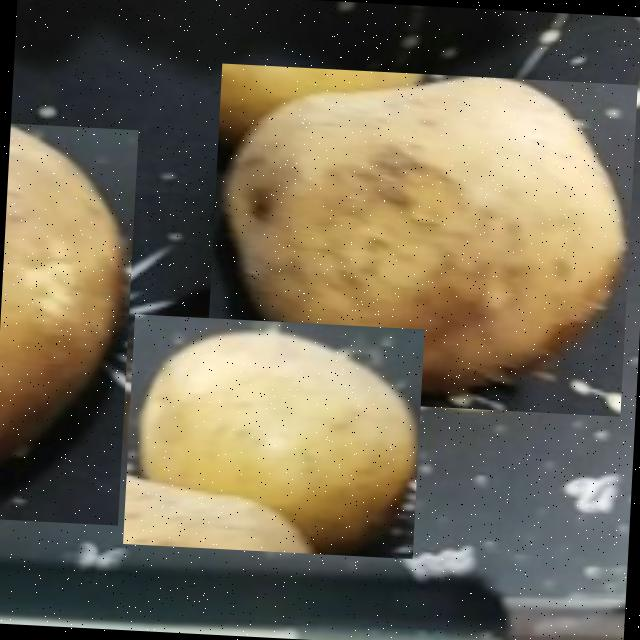Damaged potato: (204, 62, 637, 416), (0, 122, 138, 524)
Potato: (122, 313, 424, 558)
